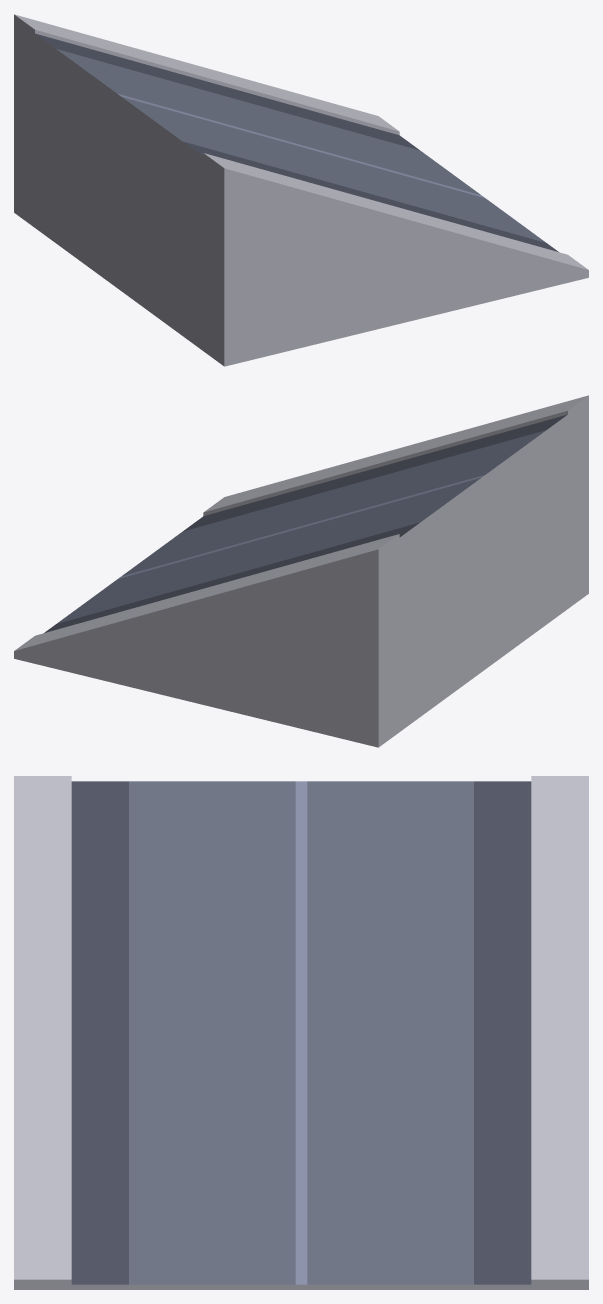
The model's file is Road Slant High.glb.
The picture shows the model from 3 angles, top to bottom: view 1: azimuth 30°, elevation 25°; view 2: azimuth 150°, elevation 25°; view 3: azimuth 270°, elevation 25°; orthographic projection. The views are drawn at different scales.
Parts seen in each view (by area): view 1: road_slantHigh; view 2: road_slantHigh; view 3: road_slantHigh.
Boxes of the visible parts, x1=… form: road_slantHigh: x1=14, y1=14, x2=588, y2=366; road_slantHigh: x1=14, y1=395, x2=588, y2=747; road_slantHigh: x1=14, y1=776, x2=588, y2=1289.
Bounding box in the file's own units: 1 × 0.52 × 1.
